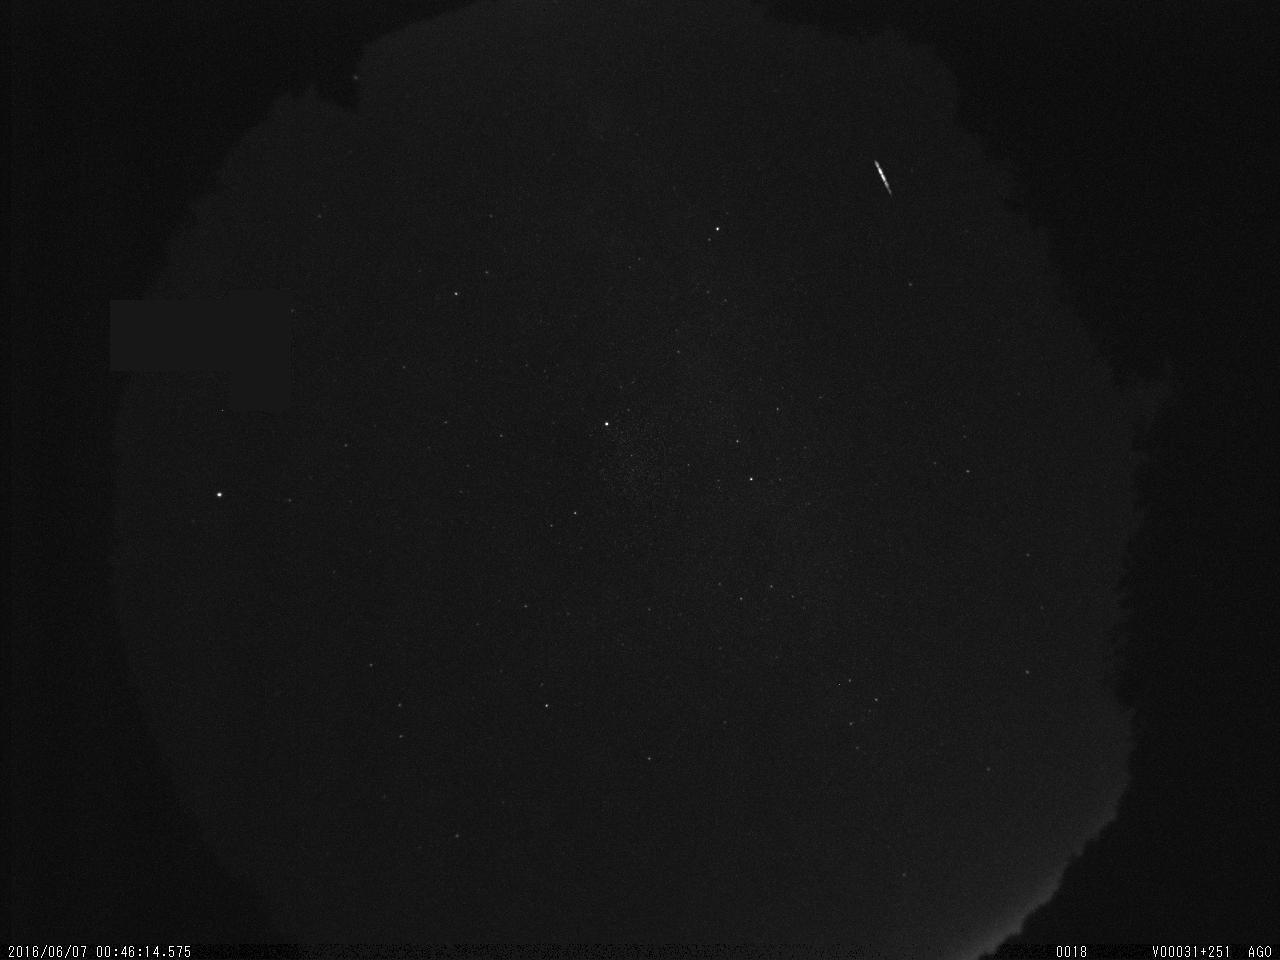meteor: (861, 153, 900, 205)
